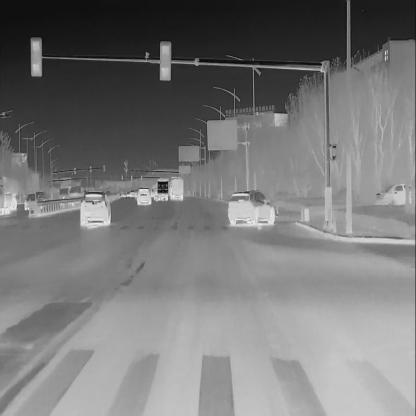car: (226, 190, 275, 226), (79, 191, 111, 226), (373, 183, 412, 206), (136, 187, 152, 206), (69, 184, 84, 202), (56, 186, 69, 203), (128, 189, 136, 198)
truck: (0, 174, 20, 218), (23, 189, 46, 212), (170, 176, 186, 201), (156, 178, 172, 202)
